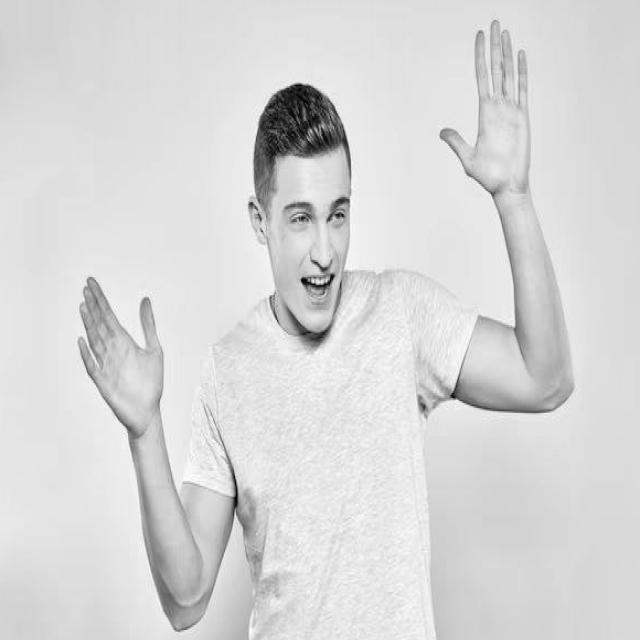stop: (435, 15, 536, 198)
